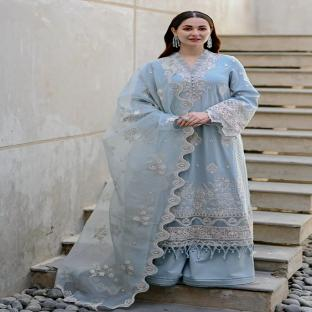Human: (56, 11, 259, 310)
